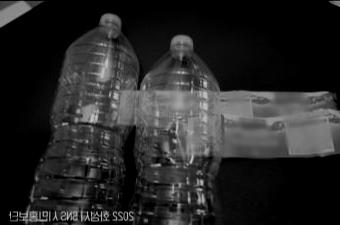bottle: (23, 12, 141, 225), (128, 34, 221, 225)
